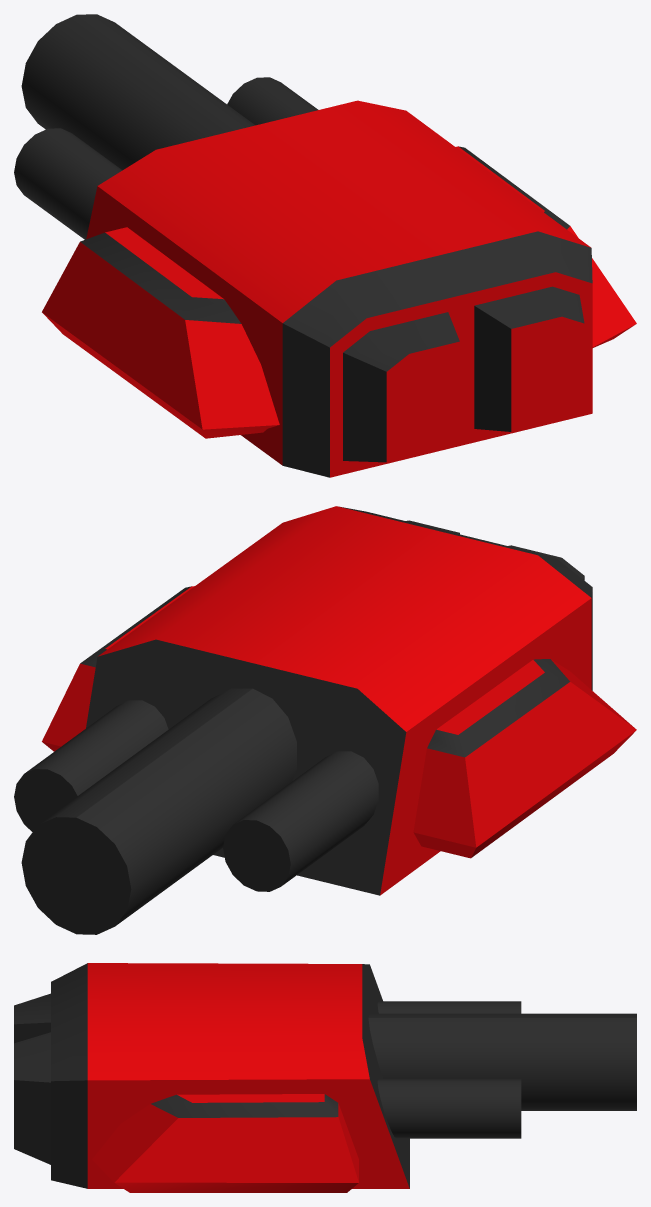
File: SM_Module_TurretHead2_BO.fbx
3 renders of one model, top to bottom at view 1: azimuth 30°, elevation 25°; view 2: azimuth 150°, elevation 25°; view 3: azimuth 270°, elevation 25°, orthographic. The views are drawn at different scales.
Parts seen in each view (by area): view 1: SM_Module_TurretHead_BO.001; view 2: SM_Module_TurretHead_BO.001; view 3: SM_Module_TurretHead_BO.001.
Part boxes in pixels (x1=…): SM_Module_TurretHead_BO.001: x1=14, y1=14, x2=636, y2=477; SM_Module_TurretHead_BO.001: x1=14, y1=506, x2=636, y2=934; SM_Module_TurretHead_BO.001: x1=14, y1=963, x2=636, y2=1192.
Bounding box in the file's own units: 2.24 × 3.65 × 0.8477.
